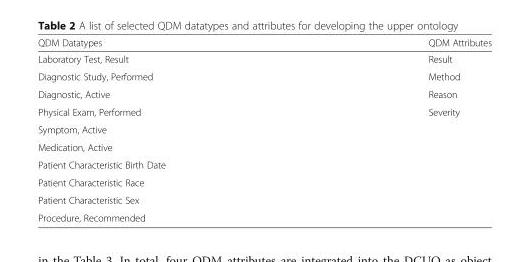table: (37, 36, 490, 223)
table column: (37, 36, 296, 223), (296, 36, 490, 223)
table column header: (37, 36, 490, 50)
table projected row header: (37, 120, 490, 138), (37, 155, 490, 173), (37, 190, 490, 208), (37, 138, 490, 155), (37, 173, 490, 190)
table row: (37, 67, 490, 85), (37, 102, 490, 120), (37, 120, 490, 138), (37, 155, 490, 173), (37, 190, 490, 208), (37, 50, 490, 67), (37, 85, 490, 102), (37, 138, 490, 155), (37, 173, 490, 190), (37, 208, 490, 223), (37, 36, 490, 50)
